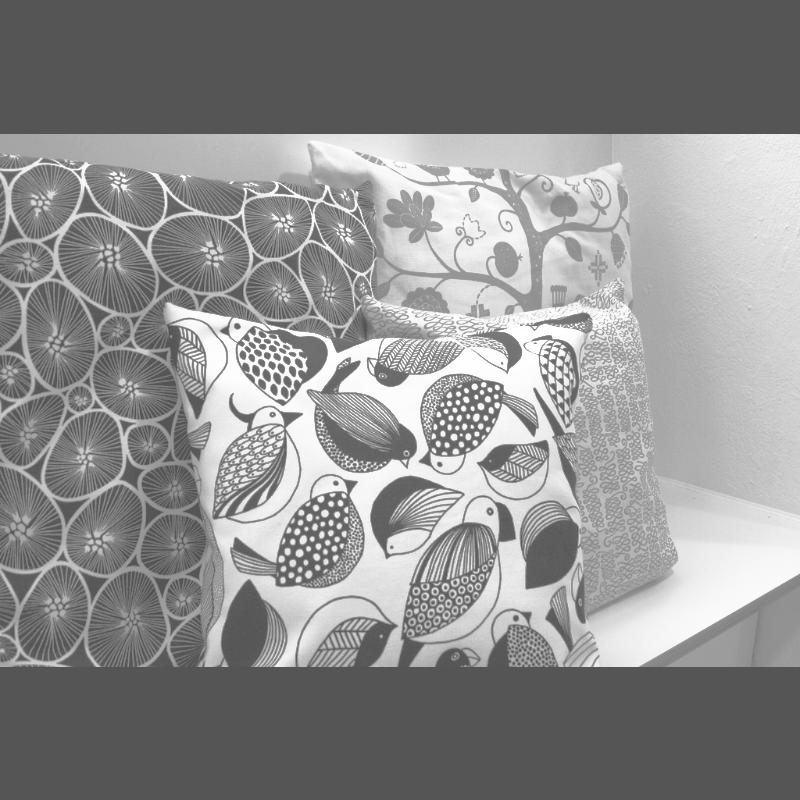pillow: (0, 149, 382, 666), (166, 300, 608, 666), (360, 278, 684, 618), (305, 141, 641, 325)
